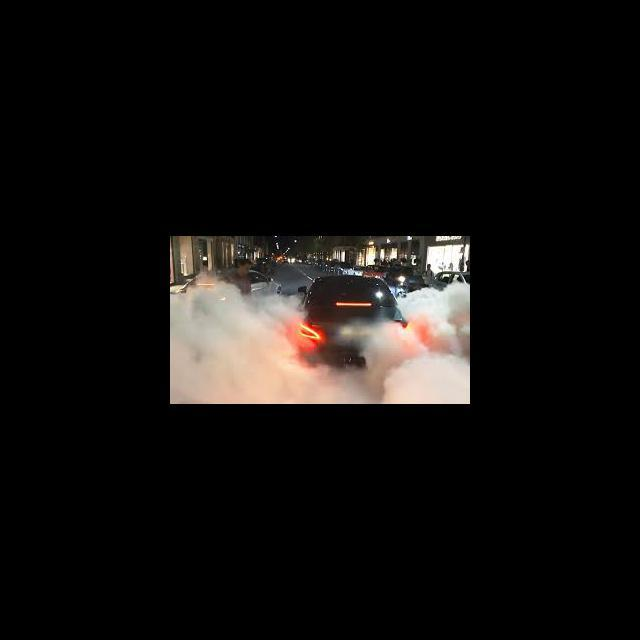Smoke: (170, 282, 469, 403)
